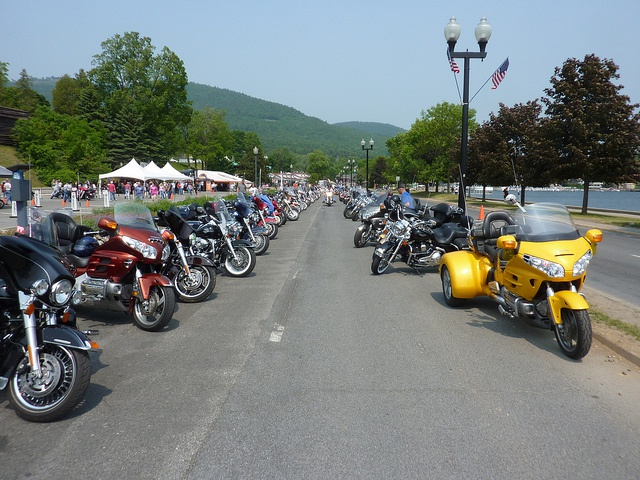non-vehicle: (433, 190, 607, 364), (2, 230, 103, 420), (40, 202, 175, 330), (367, 202, 461, 279), (154, 202, 217, 303), (185, 197, 256, 279), (353, 188, 432, 247), (227, 192, 269, 255), (248, 192, 278, 239), (343, 188, 385, 218), (258, 195, 288, 227), (272, 190, 299, 220), (283, 190, 300, 212)
